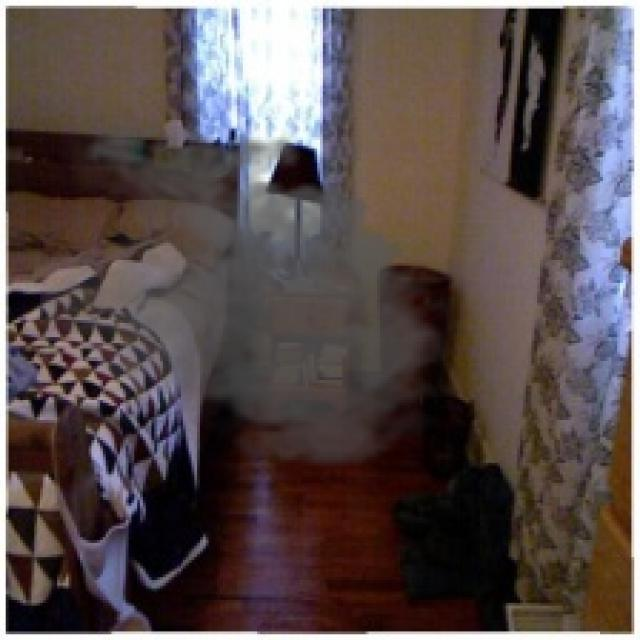Smoke: (40, 112, 466, 474)
